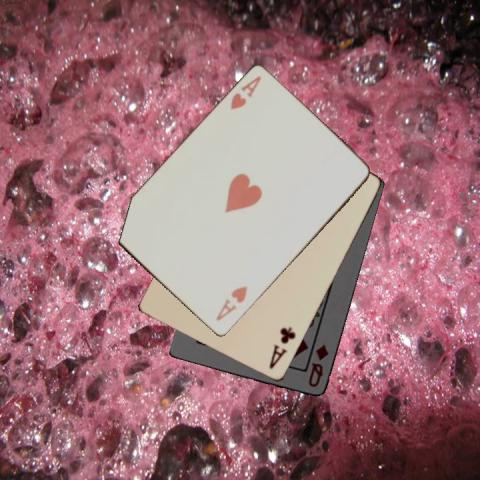Ac: (266, 324, 297, 371)
Ah: (213, 283, 249, 322), (227, 73, 262, 112)
Qd: (305, 342, 331, 390)
